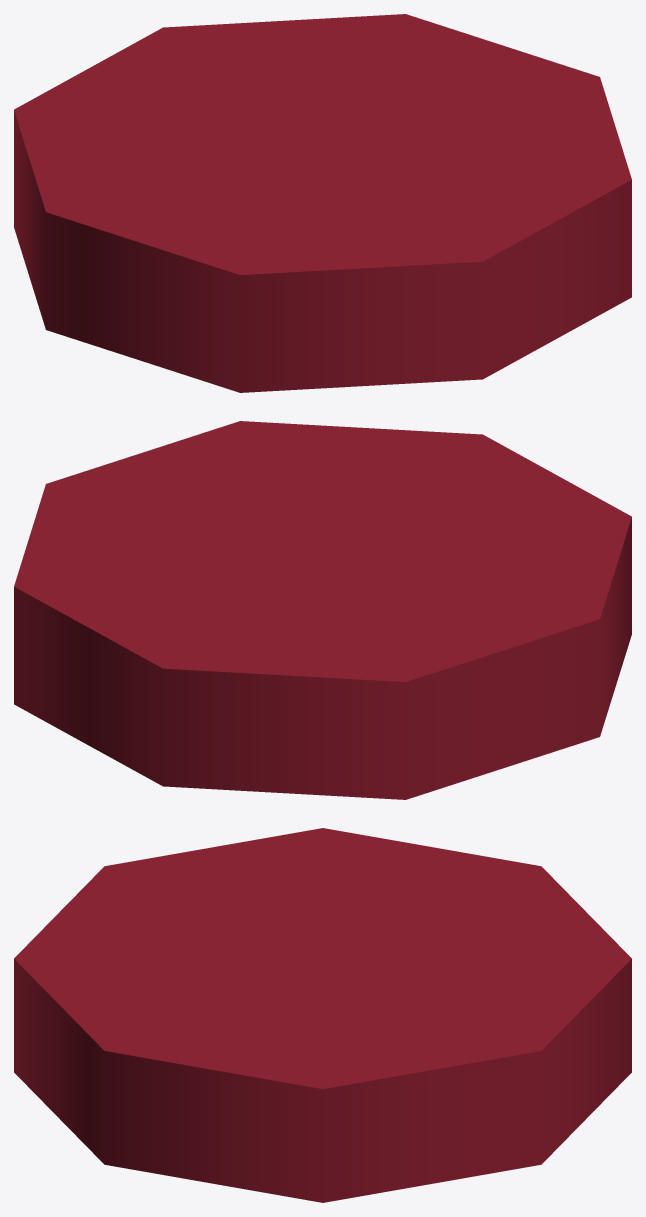
Rendered from moeda_poquer_vermelha.fbx.
3 renders of one model, top to bottom at view 1: azimuth 30°, elevation 25°; view 2: azimuth 150°, elevation 25°; view 3: azimuth 270°, elevation 25°, orthographic. The views are drawn at different scales.
Visible parts, largest first — view 1: moeda_poquer_vermelha; view 2: moeda_poquer_vermelha; view 3: moeda_poquer_vermelha.
Boxes of the visible parts, bbox=[...] form: moeda_poquer_vermelha: bbox=[14, 14, 631, 392]; moeda_poquer_vermelha: bbox=[14, 421, 631, 799]; moeda_poquer_vermelha: bbox=[14, 828, 631, 1202].
Size of the model in its own units: 5.46 by 1.11 by 5.46.
